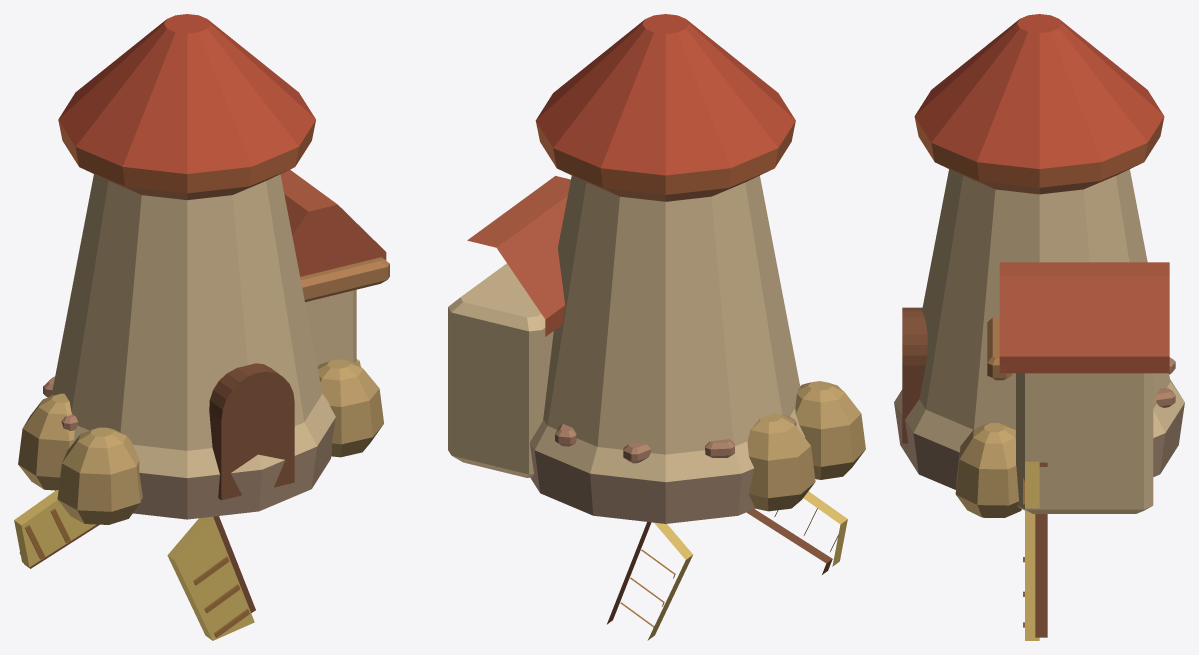
Rendered from mill.glb.
3 views of the same model, side by side, from view 1: azimuth 30°, elevation 25°; view 2: azimuth 150°, elevation 25°; view 3: azimuth 270°, elevation 25° (orthographic). The views are drawn at different scales.
Parts seen in each view (by area): view 1: Base, Upgrade2, Upgrade3, Accent; view 2: Base, Upgrade3, Upgrade2, Accent; view 3: Base, Upgrade3, Upgrade2, Accent.
Boxes of the visible parts, left/top/right/bottom form: Base: left=43, top=14, right=335, bottom=519; Upgrade2: left=18, top=359, right=383, bottom=524; Upgrade3: left=280, top=169, right=389, bottom=366; Accent: left=14, top=359, right=360, bottom=640; Base: left=529, top=14, right=805, bottom=523; Upgrade3: left=448, top=176, right=570, bottom=477; Upgrade2: left=747, top=381, right=865, bottom=511; Accent: left=607, top=491, right=847, bottom=640; Base: left=894, top=14, right=1184, bottom=489; Upgrade3: left=987, top=262, right=1169, bottom=513; Upgrade2: left=955, top=423, right=1021, bottom=517; Accent: left=1023, top=461, right=1047, bottom=640.
Bounding box in the file's own units: 1.92 × 3.22 × 1.42.
